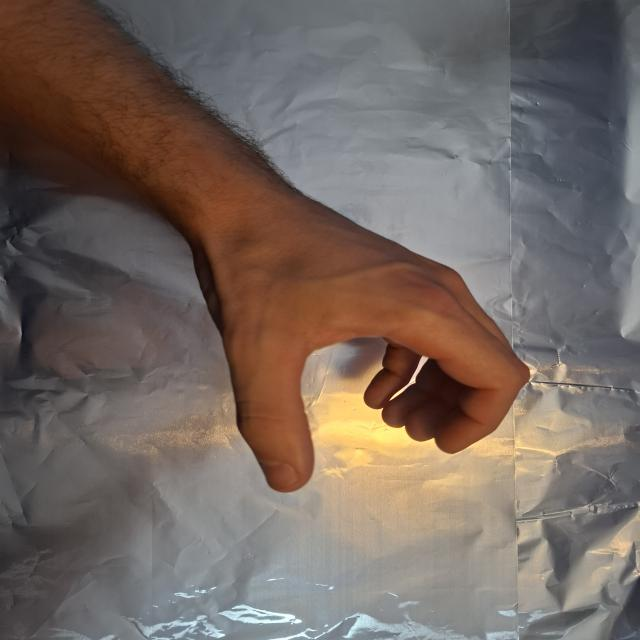glove_off: (178, 182, 534, 494)
